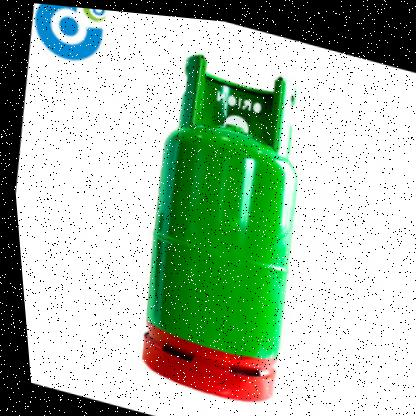gas-tank: (64, 10, 369, 415)
